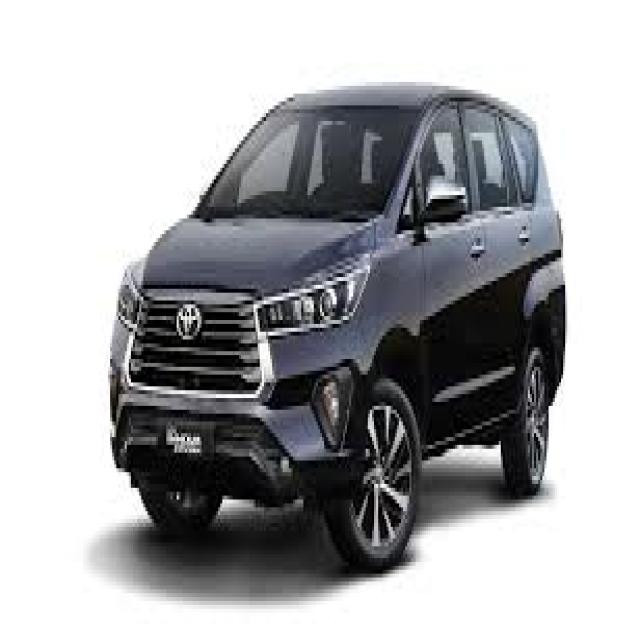light_vehicle: (108, 83, 566, 573)
